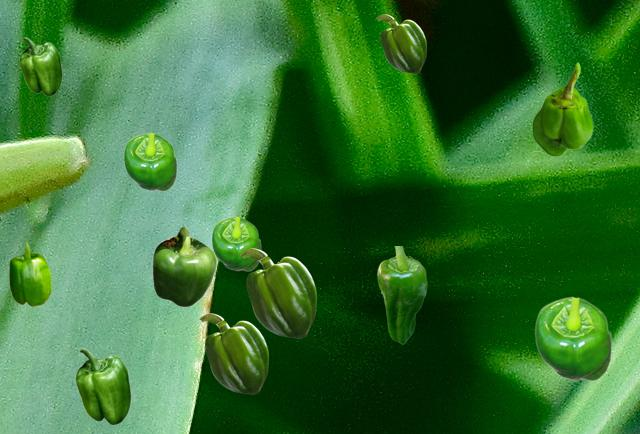bell_pepper: (240, 248, 315, 337), (534, 296, 611, 380), (532, 62, 592, 155), (199, 313, 267, 393), (152, 226, 215, 306), (377, 246, 426, 343), (75, 348, 130, 424), (123, 132, 176, 190), (376, 14, 425, 72), (211, 216, 260, 270), (9, 242, 50, 305), (19, 37, 61, 95)
